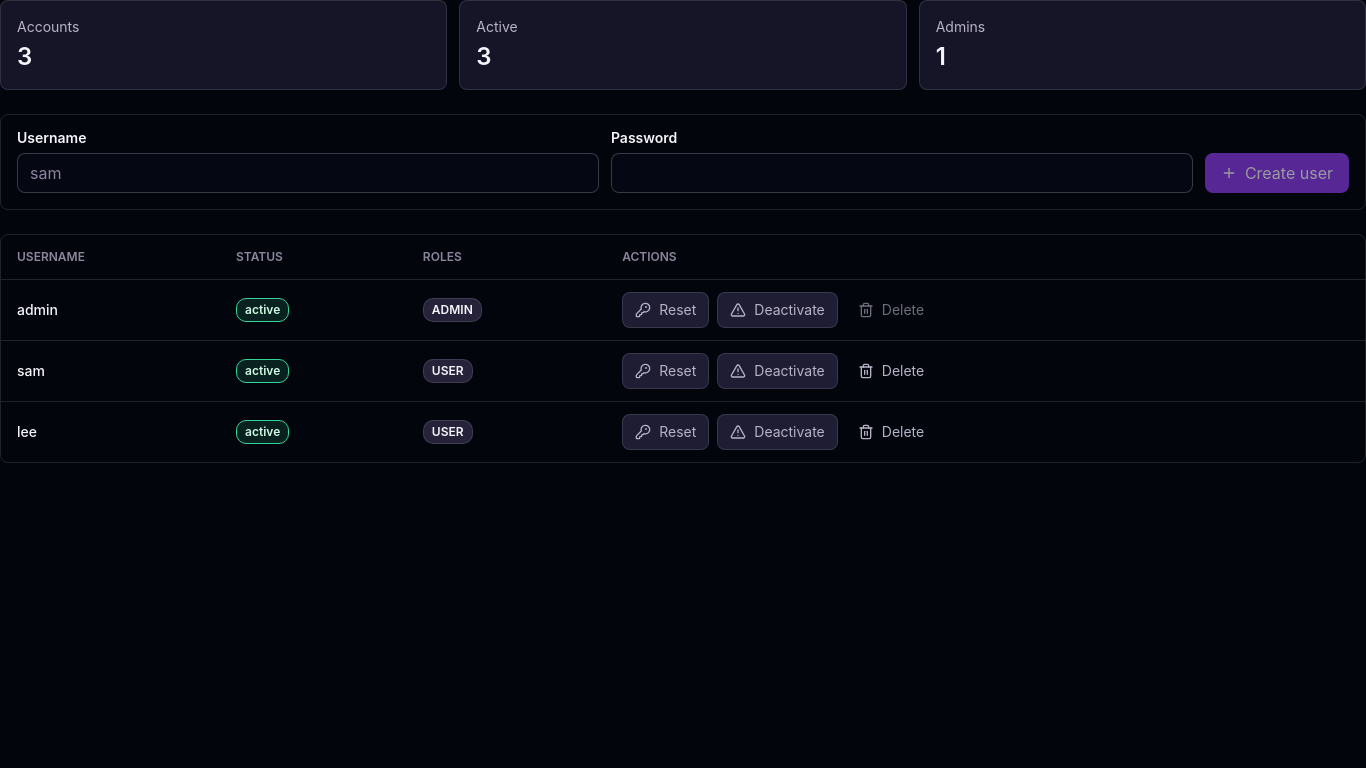
it: UsersSettings › requires replacement selection and typed confirmation before deleting
Click the button "Delete" in the row of "sam" at {"x": 891, "y": 370}, box x1=846 y1=352 x2=936 y2=388
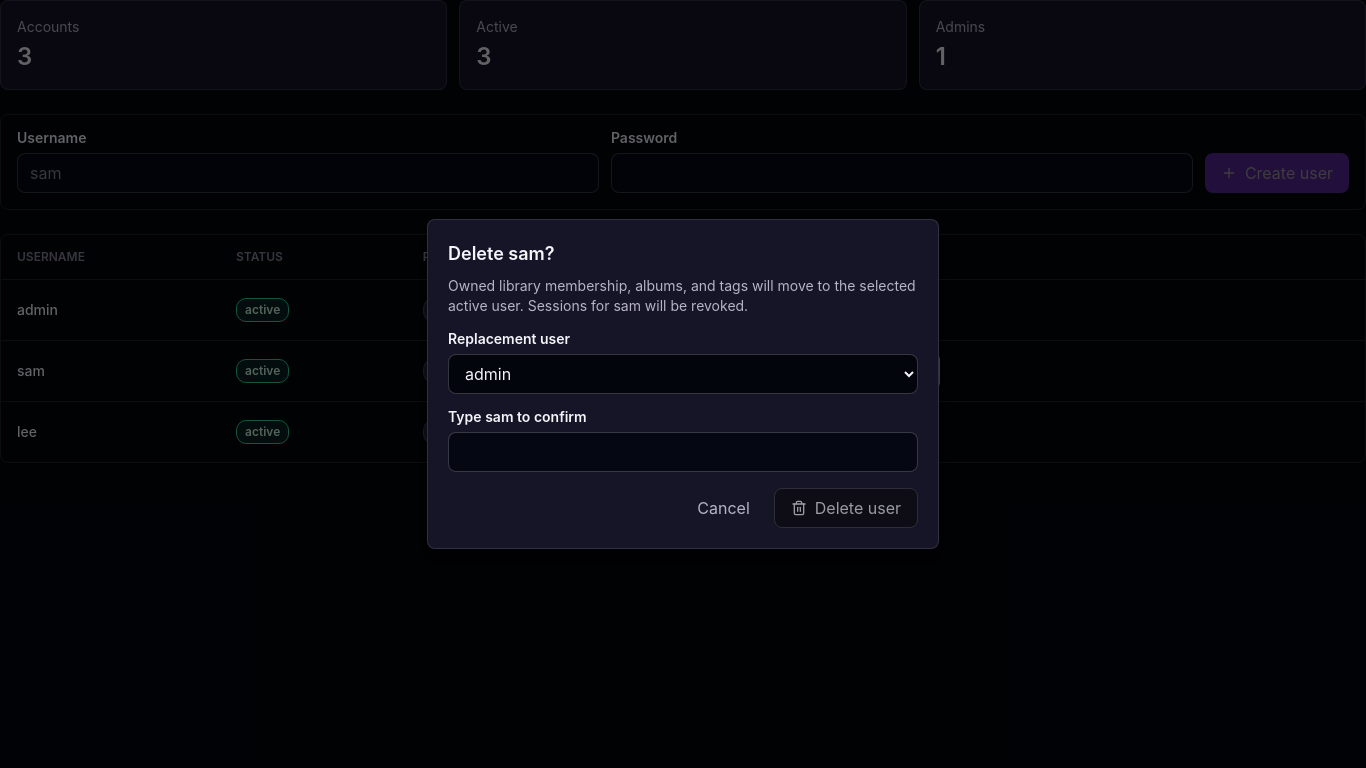
Now the button "Delete user" is disabled, box x1=774 y1=488 x2=918 y2=528
Select "lee" in the dropdown labelled "Replacement user" at {"x": 683, "y": 374}, box x1=448 y1=354 x2=918 y2=394
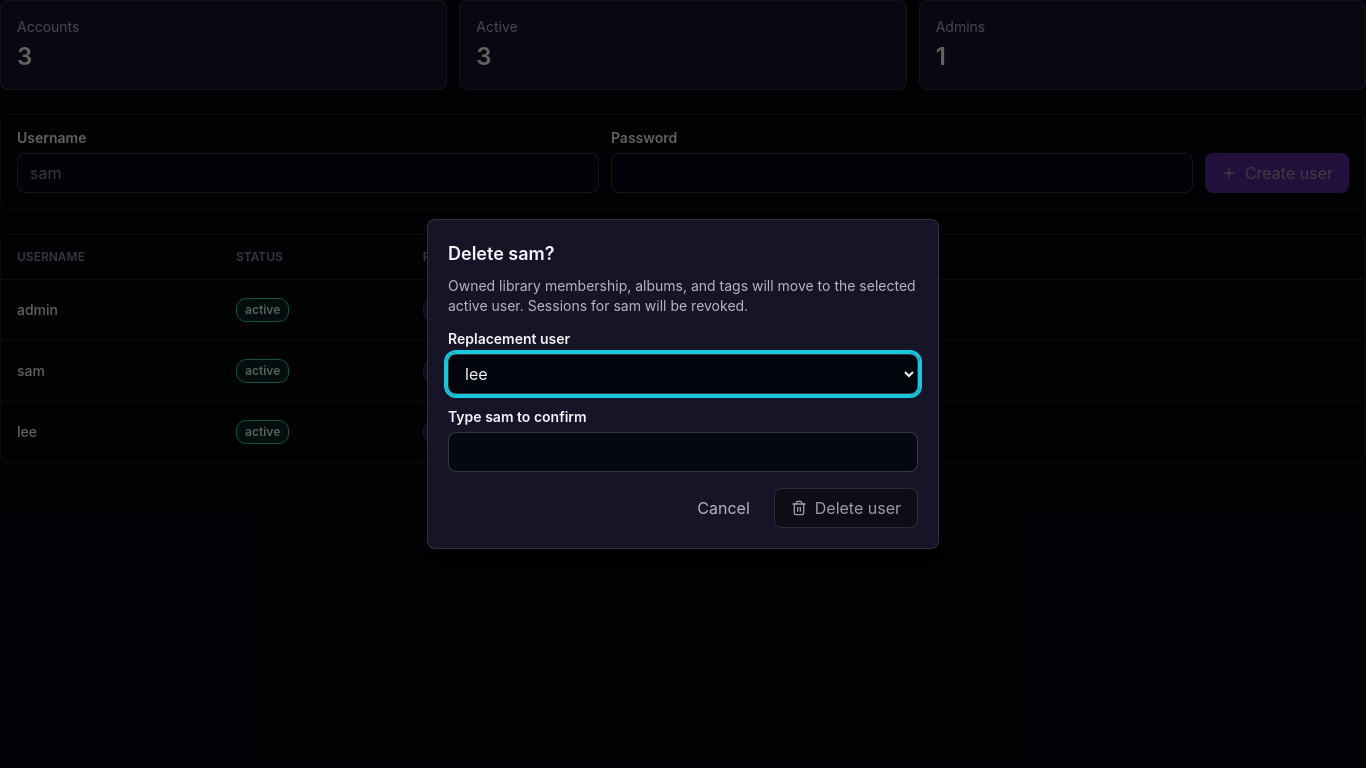
Type "wrong" into the field labelled "Type sam to confirm" at {"x": 683, "y": 452}, box x1=448 y1=432 x2=918 y2=472
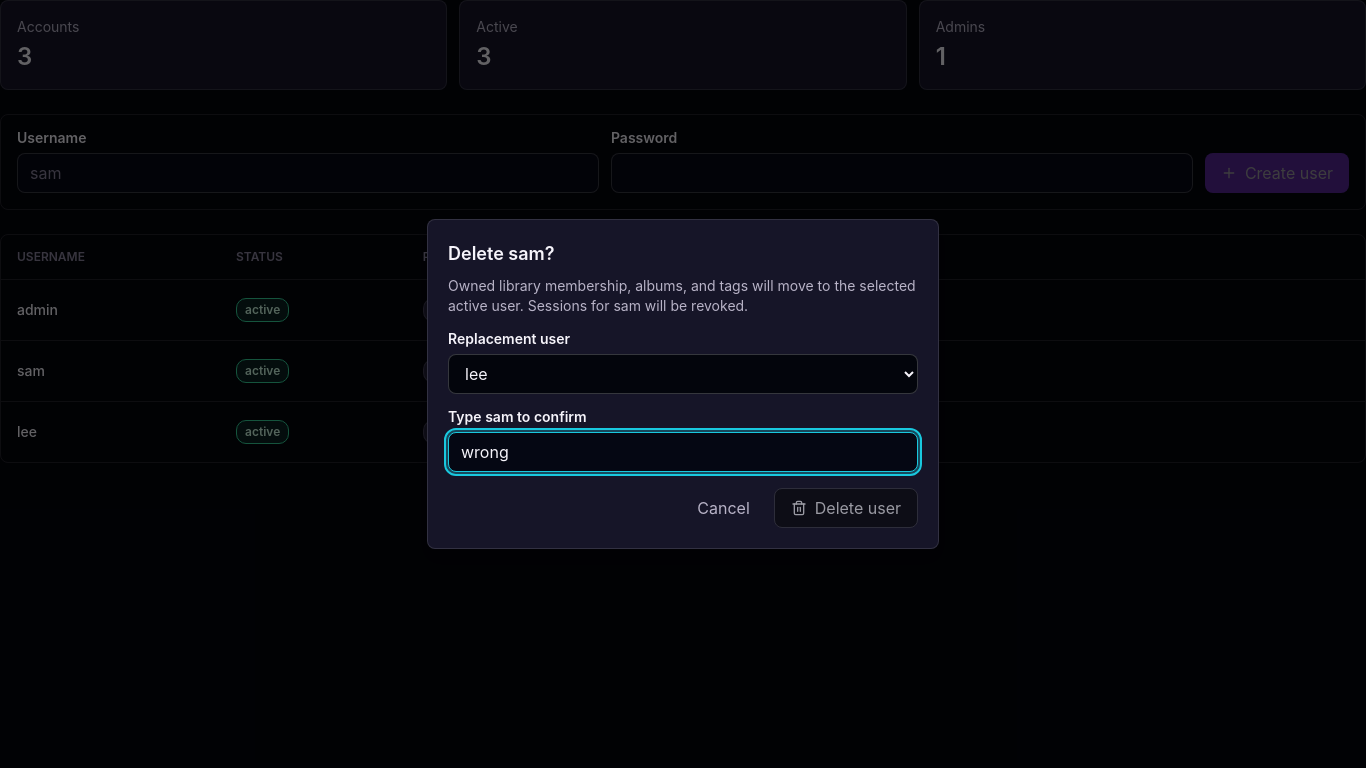
Now the button "Delete user" is disabled, box x1=774 y1=488 x2=918 y2=528
Replace the text in the field labelled "Type sam to confirm" with "sam" at {"x": 683, "y": 452}, box x1=448 y1=432 x2=918 y2=472
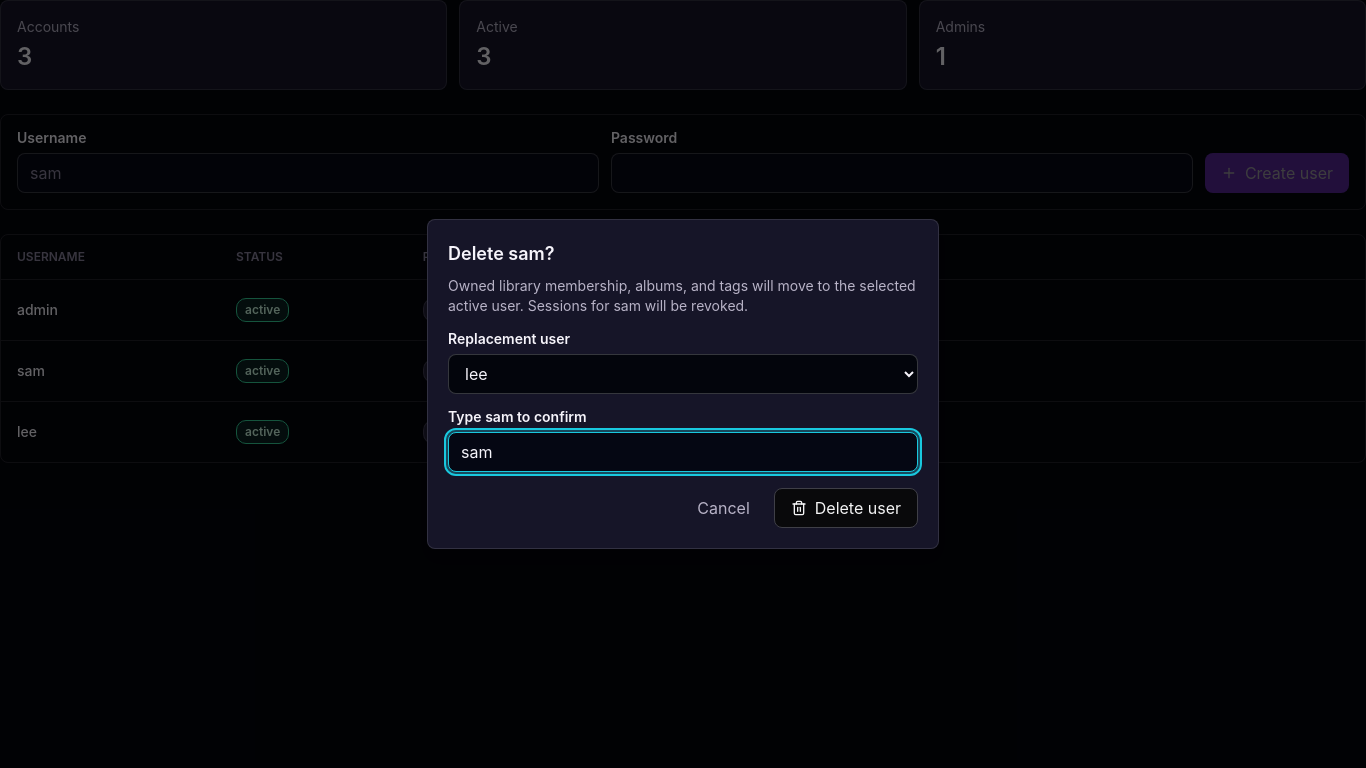
Click the button "Delete user" at {"x": 846, "y": 508}, box x1=774 y1=488 x2=918 y2=528
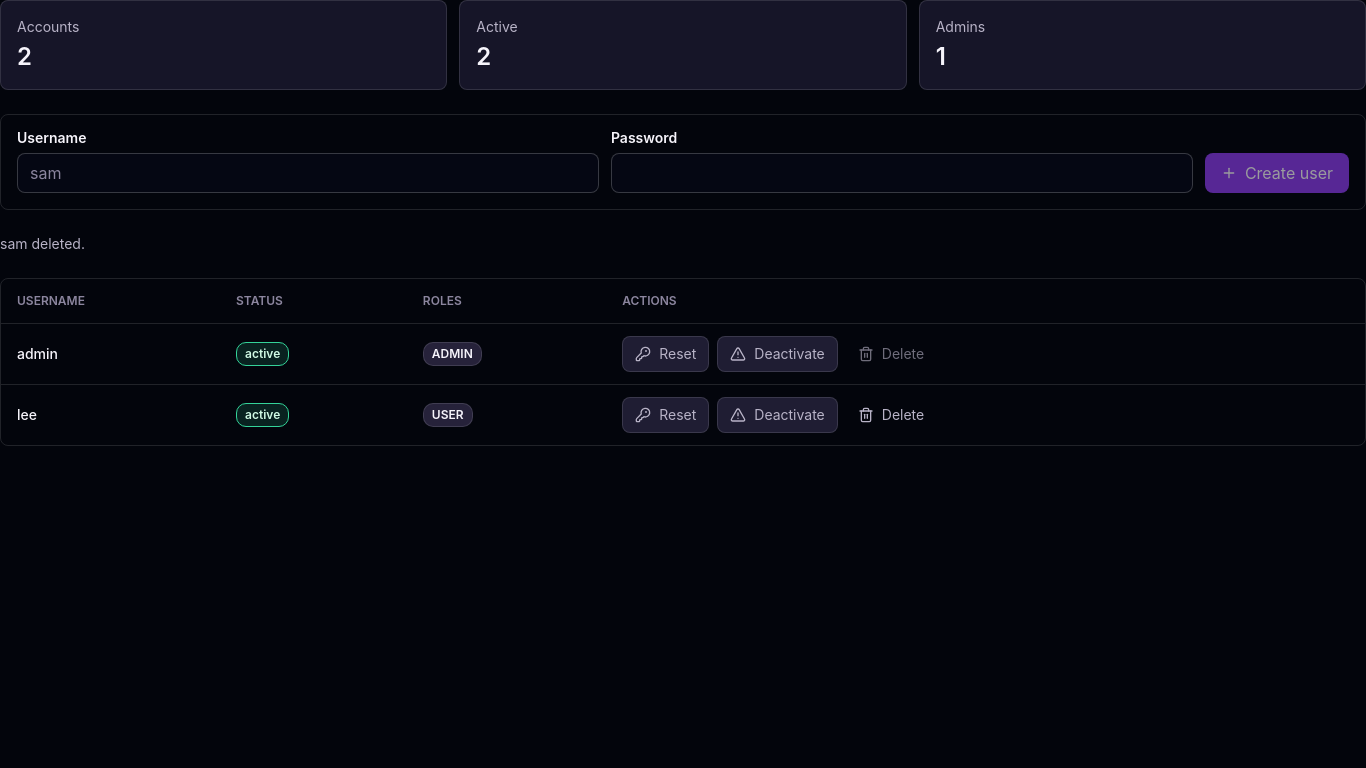
Now the text "sam deleted." is shown, box x1=0 y1=235 x2=85 y2=252
Now the table "Delete sam?" is gone
